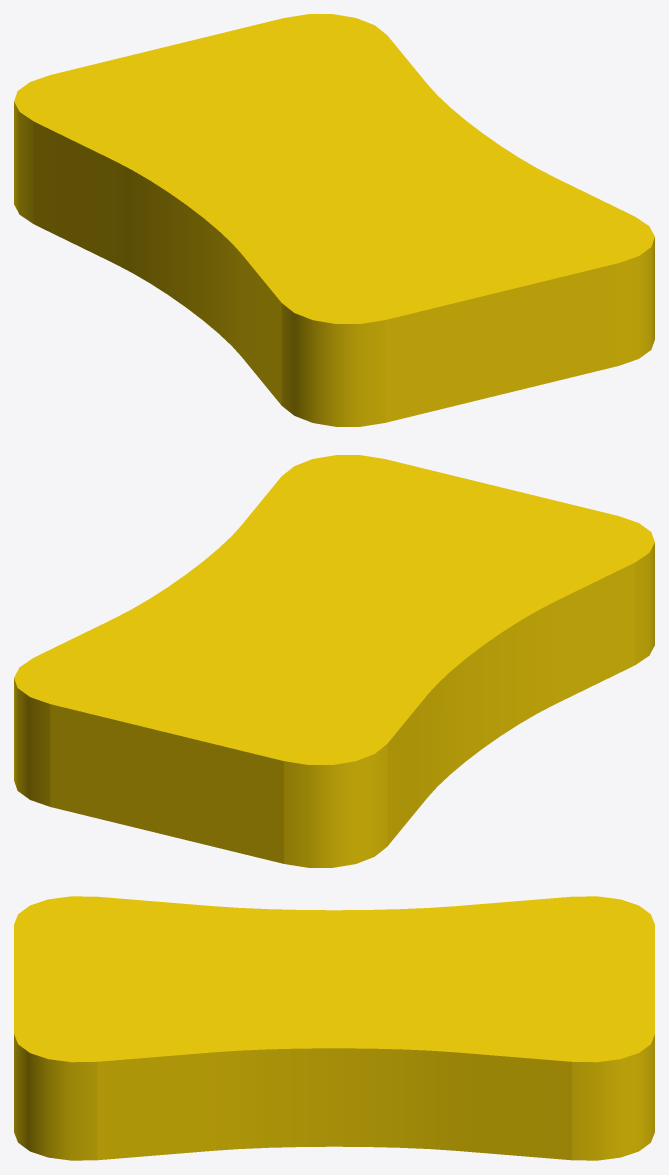
The model's file is Sponge.fbx.
3 renders of one model, top to bottom at view 1: azimuth 30°, elevation 25°; view 2: azimuth 150°, elevation 25°; view 3: azimuth 270°, elevation 25°, orthographic. The views are drawn at different scales.
Parts seen in each view (by area): view 1: Cube; view 2: Cube; view 3: Cube.
Part boxes in pixels (left/top/right/bottom): Cube: left=14, top=14, right=654, bottom=426; Cube: left=14, top=455, right=654, bottom=867; Cube: left=14, top=896, right=654, bottom=1160.
Size of the model in its own units: 36.31 by 10.05 by 59.3.
